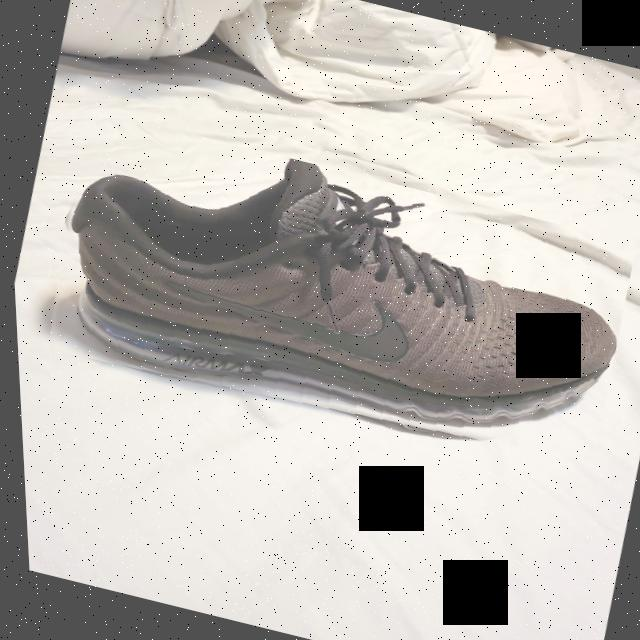shoe: (21, 107, 640, 483)
